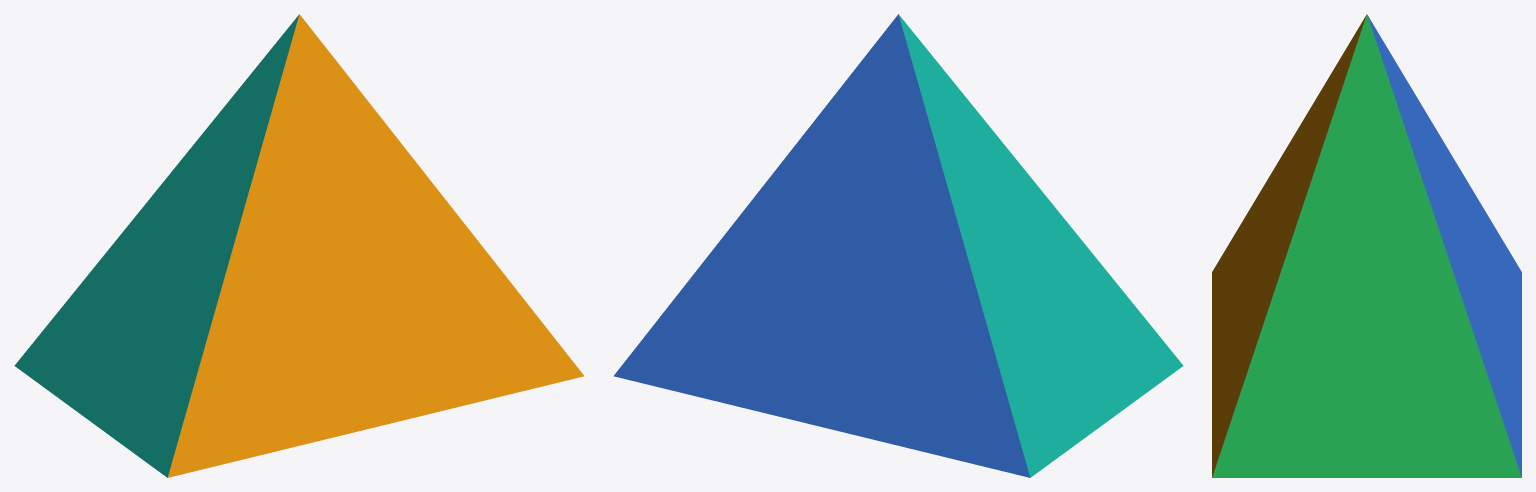
The model's file is limas-persegi-panjang.glb.
The picture shows the model from 3 angles, left to right: view 1: azimuth 30°, elevation 25°; view 2: azimuth 150°, elevation 25°; view 3: azimuth 270°, elevation 25°; orthographic projection.
Visible parts, largest first — view 1: tegak3, tegak4; view 2: tegak1, tegak4; view 3: tegak2, tegak1, tegak3.
Part boxes in pixels (x1,y1,x2,y2): tegak3: (167, 14, 584, 477); tegak4: (14, 14, 299, 477); tegak1: (613, 14, 1030, 477); tegak4: (898, 14, 1183, 477); tegak2: (1212, 14, 1521, 477); tegak1: (1367, 15, 1521, 477); tegak3: (1212, 15, 1366, 477).
Bounding box in the file's own units: 2.2 × 1.8 × 1.4.
